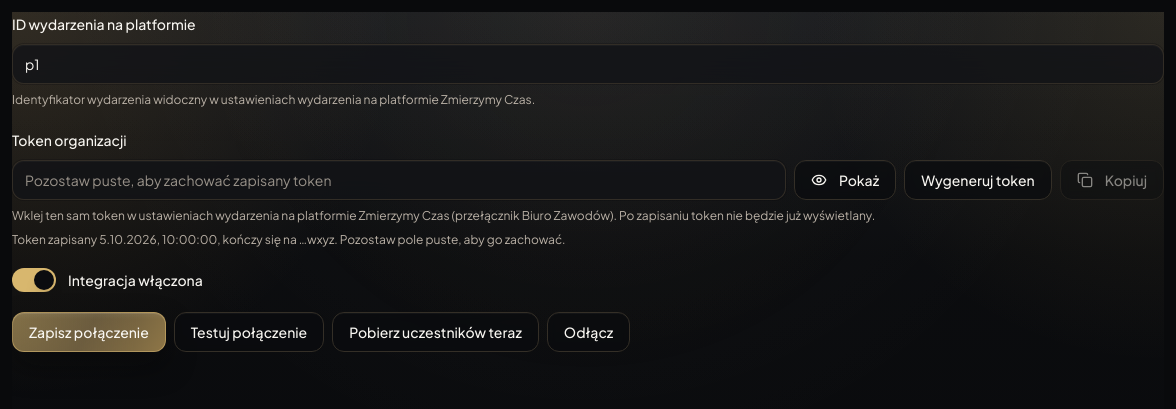
Test case: EventPlatformConnectionSection › pulls participants, announces the result and refreshes data
Step 1. Click the button "Pobierz uczestników teraz" → (436, 332), box [332,312,539,352]
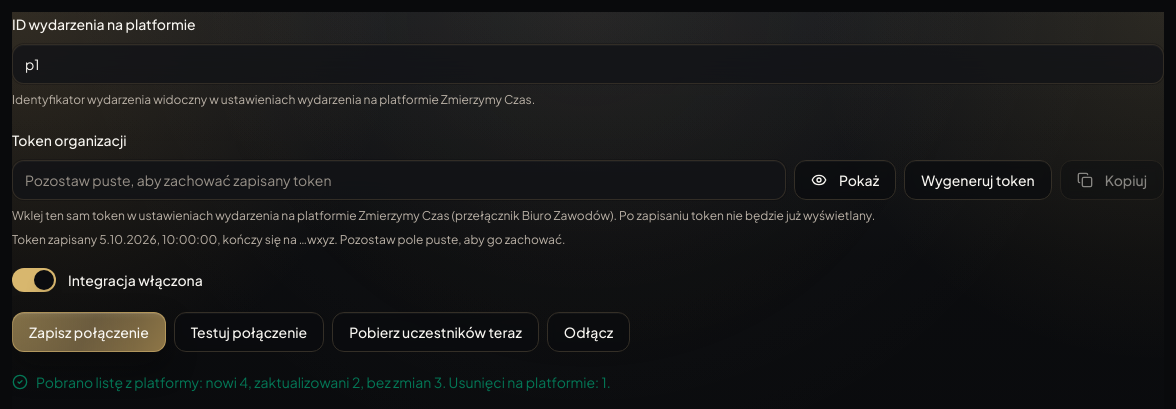
Now the text "Pobrano listę z platformy: nowi 4, zaktualizowani 2, bez zmian 3. Usunięci na platformie: 1." is shown, box [36,373,611,391]
